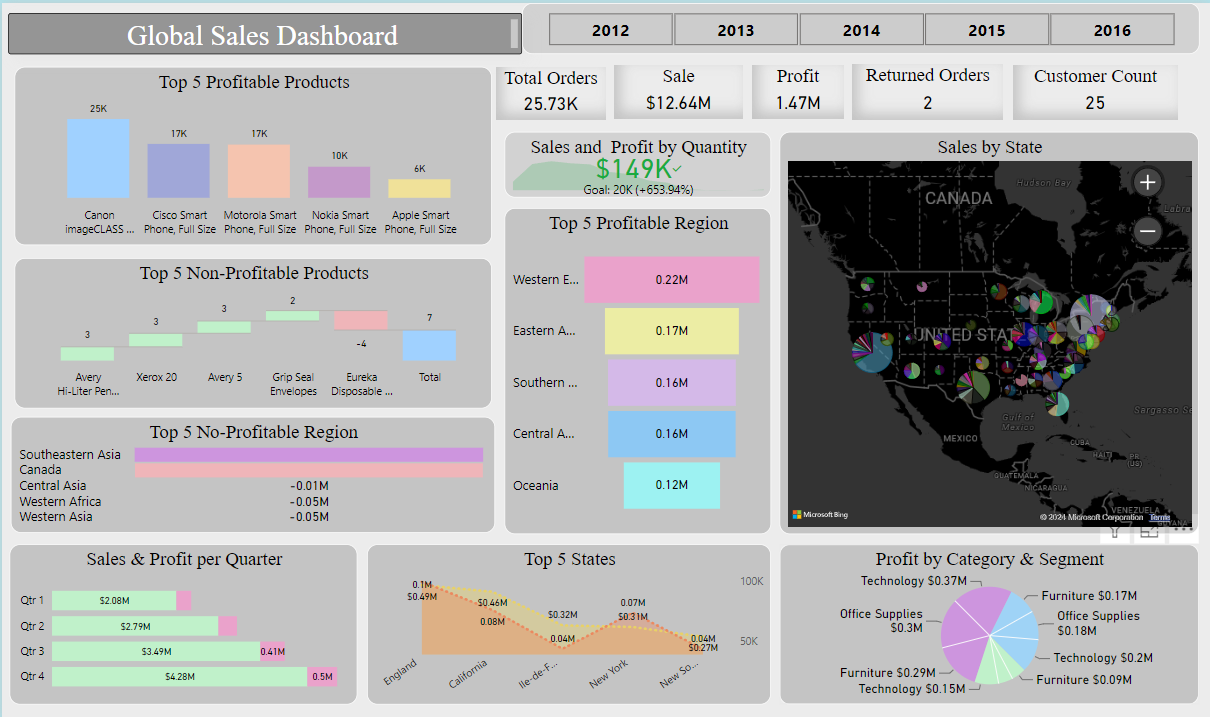

What the dashboard file says about the page in this screenshot:
{"tool":"powerbi","page":{"name":"Final Dashboard","canvas":[1380,820],"ordinal":0},"visuals":[{"type":"pieChart","title":"Profit by Category & Segment","fields":{"Y":["Sum(Orders.Sales)"],"Category":["Orders.Segment"],"Series":["Orders.Category"]},"box":[889.1,618.4,479.3,183.4],"z":0},{"type":"textbox","box":[7.4,11.8,587.3,47.3],"z":1000},{"type":"card","title":"Total Orders","fields":{"Values":["Count(Orders.Order ID)"]},"box":[563.7,72.5,125.8,60.7],"z":2000},{"type":"card","title":"Profit","fields":{"Values":["Sum(Orders.Profit)"]},"box":[856.6,71,105,60.7],"z":3000},{"type":"card","title":"Returned Orders","fields":{"Values":["Count(Returns.Column1)"]},"box":[972,69.5,173.1,63.6],"z":4000},{"type":"areaChart","title":"Top 5 States ","fields":{"Category":["Orders.State"],"Y2":["Sum(Orders.Profit)"],"Y":["Sum(Orders.Sales)"]},"box":[417.2,618.4,461.6,183.4],"z":5000},{"type":"barChart","title":"Sales & Profit per Quarter","fields":{"Category":["Orders.Ship Date.Variation.Date Hierarchy.Quarter"],"Y":["Sum(Orders.Sales)","Sum(Orders.Profit)"]},"box":[8.9,618.4,398,183.4],"z":6000},{"type":"map","title":"Sales by State","fields":{"Category":["Orders.State"],"Size":["Sum(Orders.Sales)"],"Series":["Orders.City"]},"box":[889.1,146.5,479.3,460.1],"z":7000},{"type":"funnel","title":"Top 5 Profitable Region","fields":{"Category":["Orders.Region"],"Y":["Sum(Orders.Profit)"]},"box":[574,233.7,304.8,372.8],"z":8000},{"type":"funnel","title":"Top 5 No-Profitable Region","fields":{"Category":["Orders.Region"],"Y":["Sum(Orders.Profit)"]},"box":[10.4,473.4,553.3,133.1],"z":9000},{"type":"slicer","title":"Top 5 States","fields":{"Values":["Orders.Ship Date.Variation.Date Hierarchy.Year"]},"box":[594.7,0,773.7,71],"z":10000},{"type":"columnChart","title":"Top 5 Profitable Products","fields":{"Category":["Orders.Product Name"],"Y":["Sum(Orders.Profit)"]},"box":[14.8,72.5,545.9,204.2],"z":11000},{"type":"waterfallChart","title":"Top 5 Non-Profitable Products","fields":{"Category":["Orders.Product Name"],"Y":["Sum(Orders.Profit)"]},"box":[14.8,291.4,545.9,171.6],"z":12000},{"type":"card","title":"Sale","fields":{"Values":["Sum(Orders.Sales)"]},"box":[699.8,71,146.5,60.7],"z":13000},{"type":"kpi","title":"Sales and  Profit by Quantity","fields":{"Indicator":["Sum(Orders.Sales)"],"Goal":["Sum(Orders.Profit)"],"TrendLine":["Orders.Quantity"]},"box":[574,146.5,304.8,75.5],"z":14000},{"type":"card","title":"Customer Count","fields":{"Values":["Count(People.Column1)"]},"box":[1155.4,71,187.9,62.1],"z":15000}]}

Visuals, with their boxes in screenshot pixels (x1, y1, x2, y2), scaled from the page's 1380x820 canvas onto the 1210x717 screenshot:
"Profit by Category & Segment" pieChart: box(780, 541, 1200, 701)
textbox: box(6, 10, 521, 52)
"Total Orders" card: box(494, 63, 605, 116)
"Profit" card: box(751, 62, 843, 115)
"Returned Orders" card: box(852, 61, 1004, 116)
"Top 5 States " areaChart: box(366, 541, 771, 701)
"Sales & Profit per Quarter" barChart: box(8, 541, 357, 701)
"Sales by State" map: box(780, 128, 1200, 530)
"Top 5 Profitable Region" funnel: box(503, 204, 771, 530)
"Top 5 No-Profitable Region" funnel: box(9, 414, 494, 530)
"Top 5 States" slicer: box(521, 0, 1200, 62)
"Top 5 Profitable Products" columnChart: box(13, 63, 492, 242)
"Top 5 Non-Profitable Products" waterfallChart: box(13, 255, 492, 405)
"Sale" card: box(614, 62, 742, 115)
"Sales and  Profit by Quantity" kpi: box(503, 128, 771, 194)
"Customer Count" card: box(1013, 62, 1178, 116)
